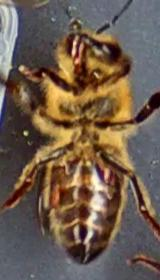varroa_mite: (90, 154, 128, 192), (41, 178, 70, 210)
